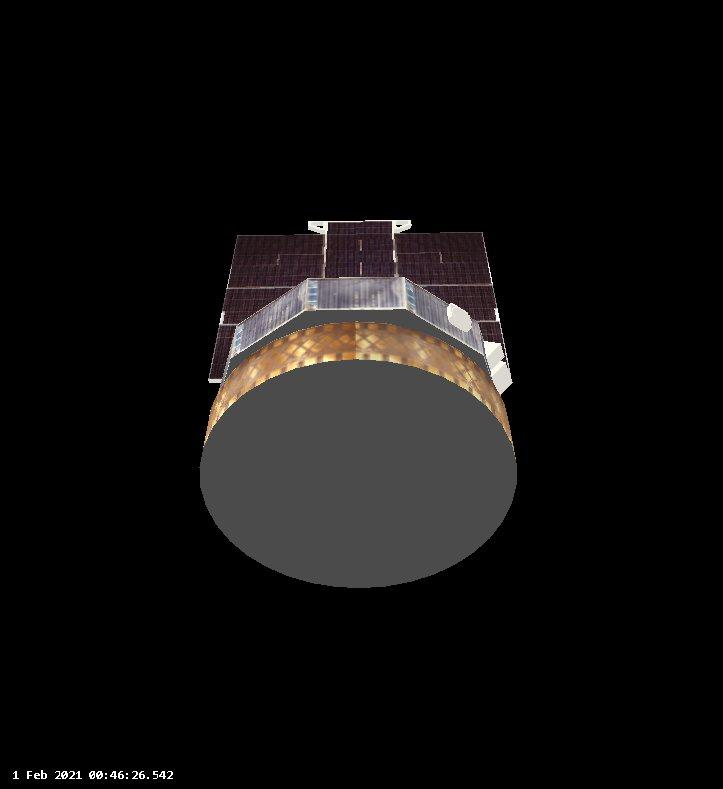body: (195, 273, 520, 591)
solar: (201, 228, 330, 387), (394, 227, 514, 381), (324, 215, 399, 300)
